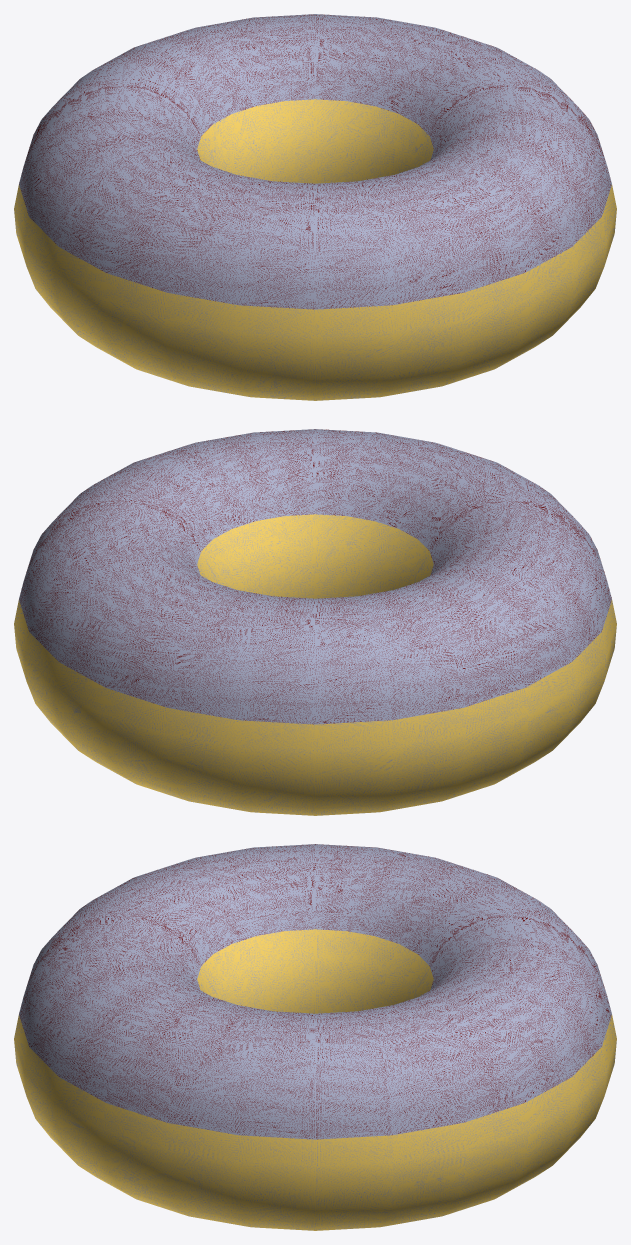
Rendered from Donut_2.fbx.
3 renders of one model, top to bottom at view 1: azimuth 30°, elevation 25°; view 2: azimuth 150°, elevation 25°; view 3: azimuth 270°, elevation 25°, orthographic.
Parts seen in each view (by area): view 1: Model; view 2: Model; view 3: Model.
Boxes of the visible parts, <box> form: Model: <box>14,14,616,400</box>; Model: <box>14,429,616,815</box>; Model: <box>14,844,616,1230</box>.
Size of the model in its own units: 37.68 by 13.85 by 37.68.
